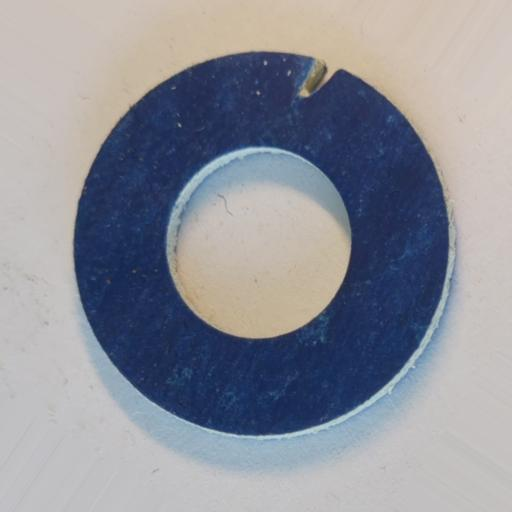defect: (297, 61, 343, 101)
